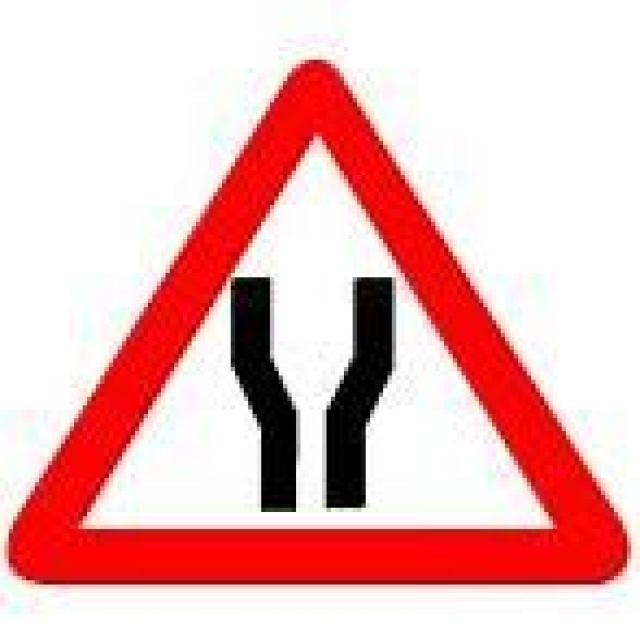road widens ahead: (17, 56, 626, 588)
